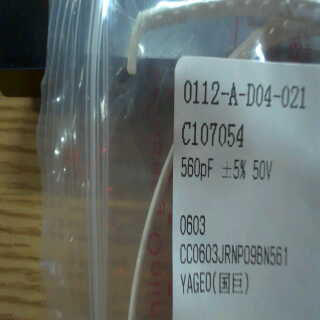560pF: (177, 152, 217, 182)
